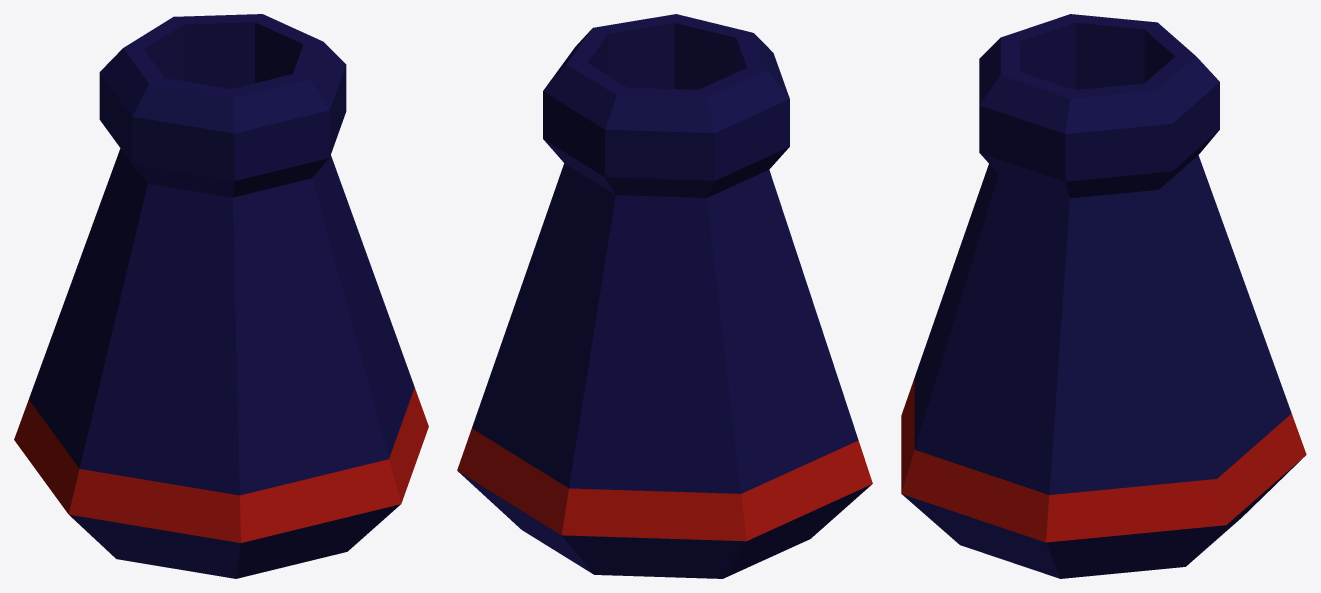
The model's file is cylinder_lev3.001.glb.
3 renders of one model, left to right at view 1: azimuth 30°, elevation 25°; view 2: azimuth 150°, elevation 25°; view 3: azimuth 270°, elevation 25°, orthographic.
Visible parts, largest first — view 1: cylinder_lev3.001; view 2: cylinder_lev3.001; view 3: cylinder_lev3.001.
Boxes of the visible parts, x1,y1,x2,y2 form: cylinder_lev3.001: (14,14,428,578); cylinder_lev3.001: (457,14,872,578); cylinder_lev3.001: (901,14,1306,578).
Bounding box in the file's own units: 1.31 × 1.61 × 1.28.
